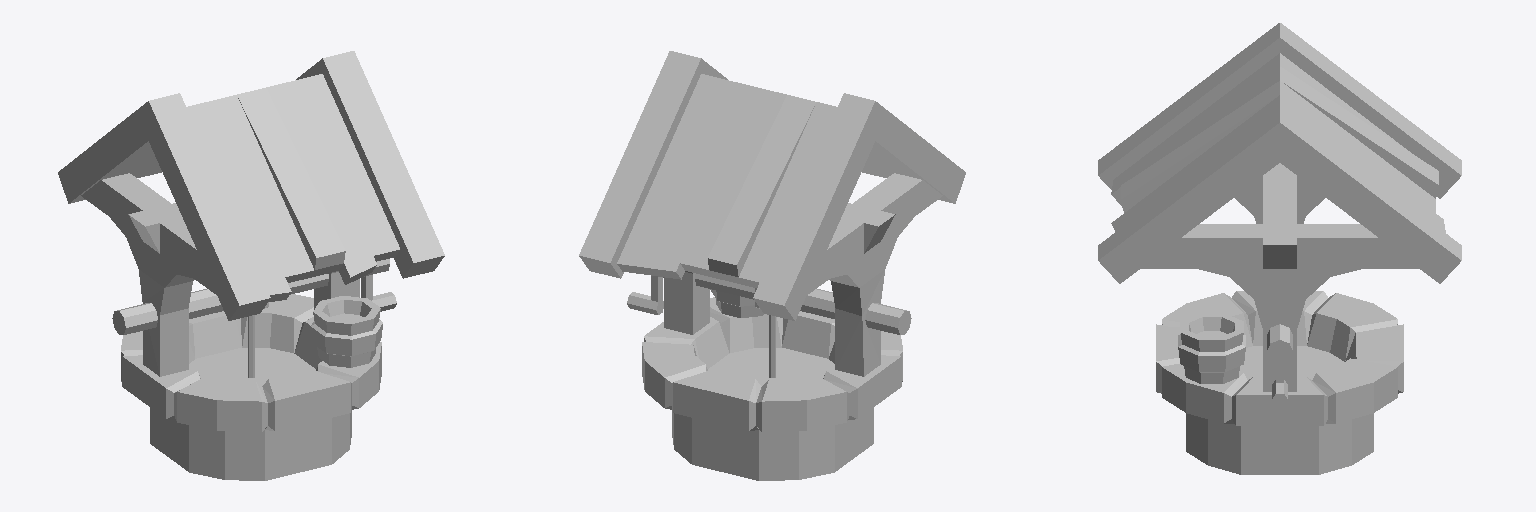
Rendered from building_well_red.obj.
3 renders of one model, left to right at view 1: azimuth 30°, elevation 25°; view 2: azimuth 150°, elevation 25°; view 3: azimuth 270°, elevation 25°, orthographic.
Visible parts, largest first — view 1: building_well_red; view 2: building_well_red; view 3: building_well_red.
Part boxes in pixels (x1,y1,x2,y2): building_well_red: (58, 51, 444, 480); building_well_red: (579, 51, 965, 480); building_well_red: (1098, 23, 1461, 474).
Size of the model in its own units: 0.6518 by 0.826 by 0.7507.